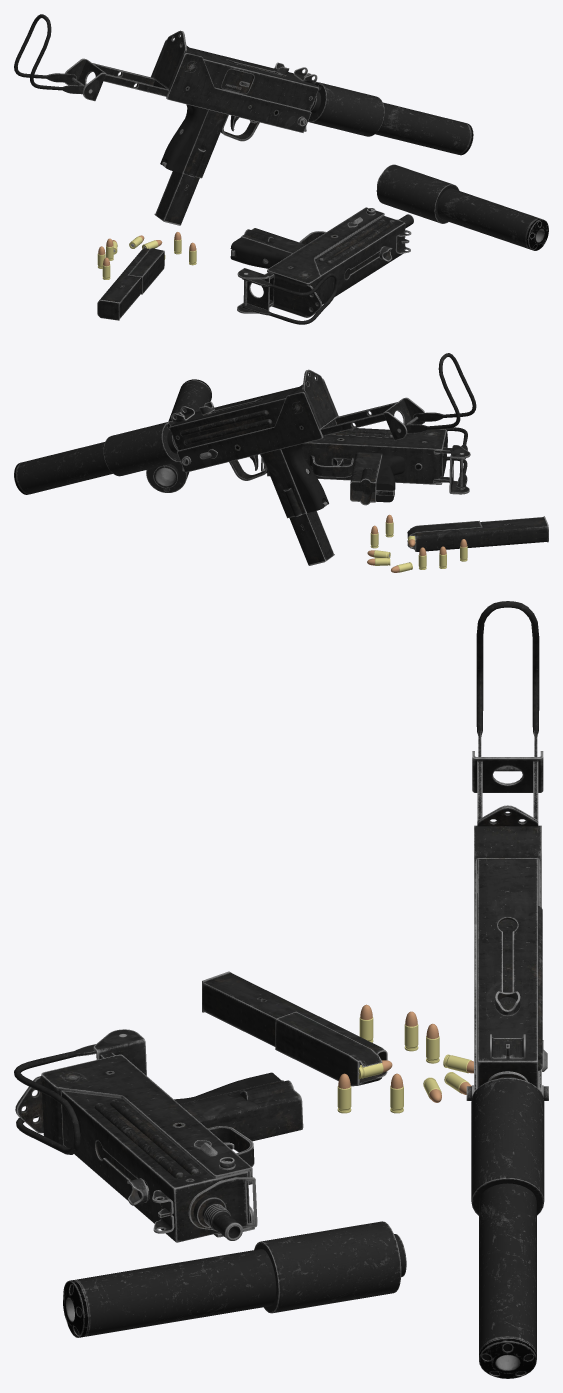
The model's file is mac-10.glb.
3 views of the same model, one above another, from view 1: azimuth 30°, elevation 25°; view 2: azimuth 150°, elevation 25°; view 3: azimuth 270°, elevation 25° (orthographic). The views are drawn at different scales.
Visible parts, largest first — view 1: Mac10, Mac10.001, Suppressor.001, Suppressor, Magazine.001, Stock, Magazine, stock_bars_, stock_bars_.001, Stock.001; view 2: Mac10, Mac10.001, Suppressor, Magazine.001, Suppressor.001, Stock, Magazine, stock_bars_, Stock.001, stock_bars_.001; view 3: Mac10.001, Suppressor.001, Suppressor, Mac10, Magazine.001, Stock, stock_bars_, stock_bars_.001, Stock.001.
Part boxes in pixels (x1=…): Mac10: x1=151, y1=30, x2=318, y2=178; Mac10.001: x1=230, y1=207, x2=413, y2=317; Suppressor.001: x1=376, y1=164, x2=548, y2=250; Suppressor: x1=308, y1=82, x2=473, y2=155; Magazine.001: x1=97, y1=248, x2=164, y2=320; Stock: x1=65, y1=58, x2=168, y2=101; Magazine: x1=154, y1=171, x2=199, y2=225; stock_bars_: x1=14, y1=14, x2=85, y2=94; stock_bars_.001: x1=241, y1=273, x2=338, y2=324; Stock.001: x1=237, y1=268, x2=273, y2=313; Mac10: x1=169, y1=369, x2=338, y2=518; Mac10.001: x1=261, y1=428, x2=447, y2=505; Suppressor: x1=14, y1=421, x2=180, y2=494; Magazine.001: x1=407, y1=516, x2=548, y2=551; Suppressor.001: x1=146, y1=379, x2=211, y2=492; Stock: x1=320, y1=397, x2=425, y2=440; Magazine: x1=289, y1=511, x2=334, y2=565; stock_bars_: x1=404, y1=353, x2=476, y2=433; Stock.001: x1=434, y1=445, x2=470, y2=494; stock_bars_.001: x1=443, y1=427, x2=467, y2=490; Mac10.001: x1=15, y1=1054, x2=303, y2=1242; Suppressor.001: x1=63, y1=1221, x2=406, y2=1337; Suppressor: x1=471, y1=1078, x2=544, y2=1378; Mac10: x1=466, y1=805, x2=548, y2=1100; Magazine.001: x1=202, y1=971, x2=387, y2=1086; Stock: x1=472, y1=751, x2=543, y2=892; stock_bars_: x1=476, y1=601, x2=539, y2=771; stock_bars_.001: x1=14, y1=1044, x2=96, y2=1154; Stock.001: x1=93, y1=1029, x2=146, y2=1075.
Bounding box in the file's own units: 0.6648 × 0.3383 × 0.3877.
3 materials, 3 textured.
